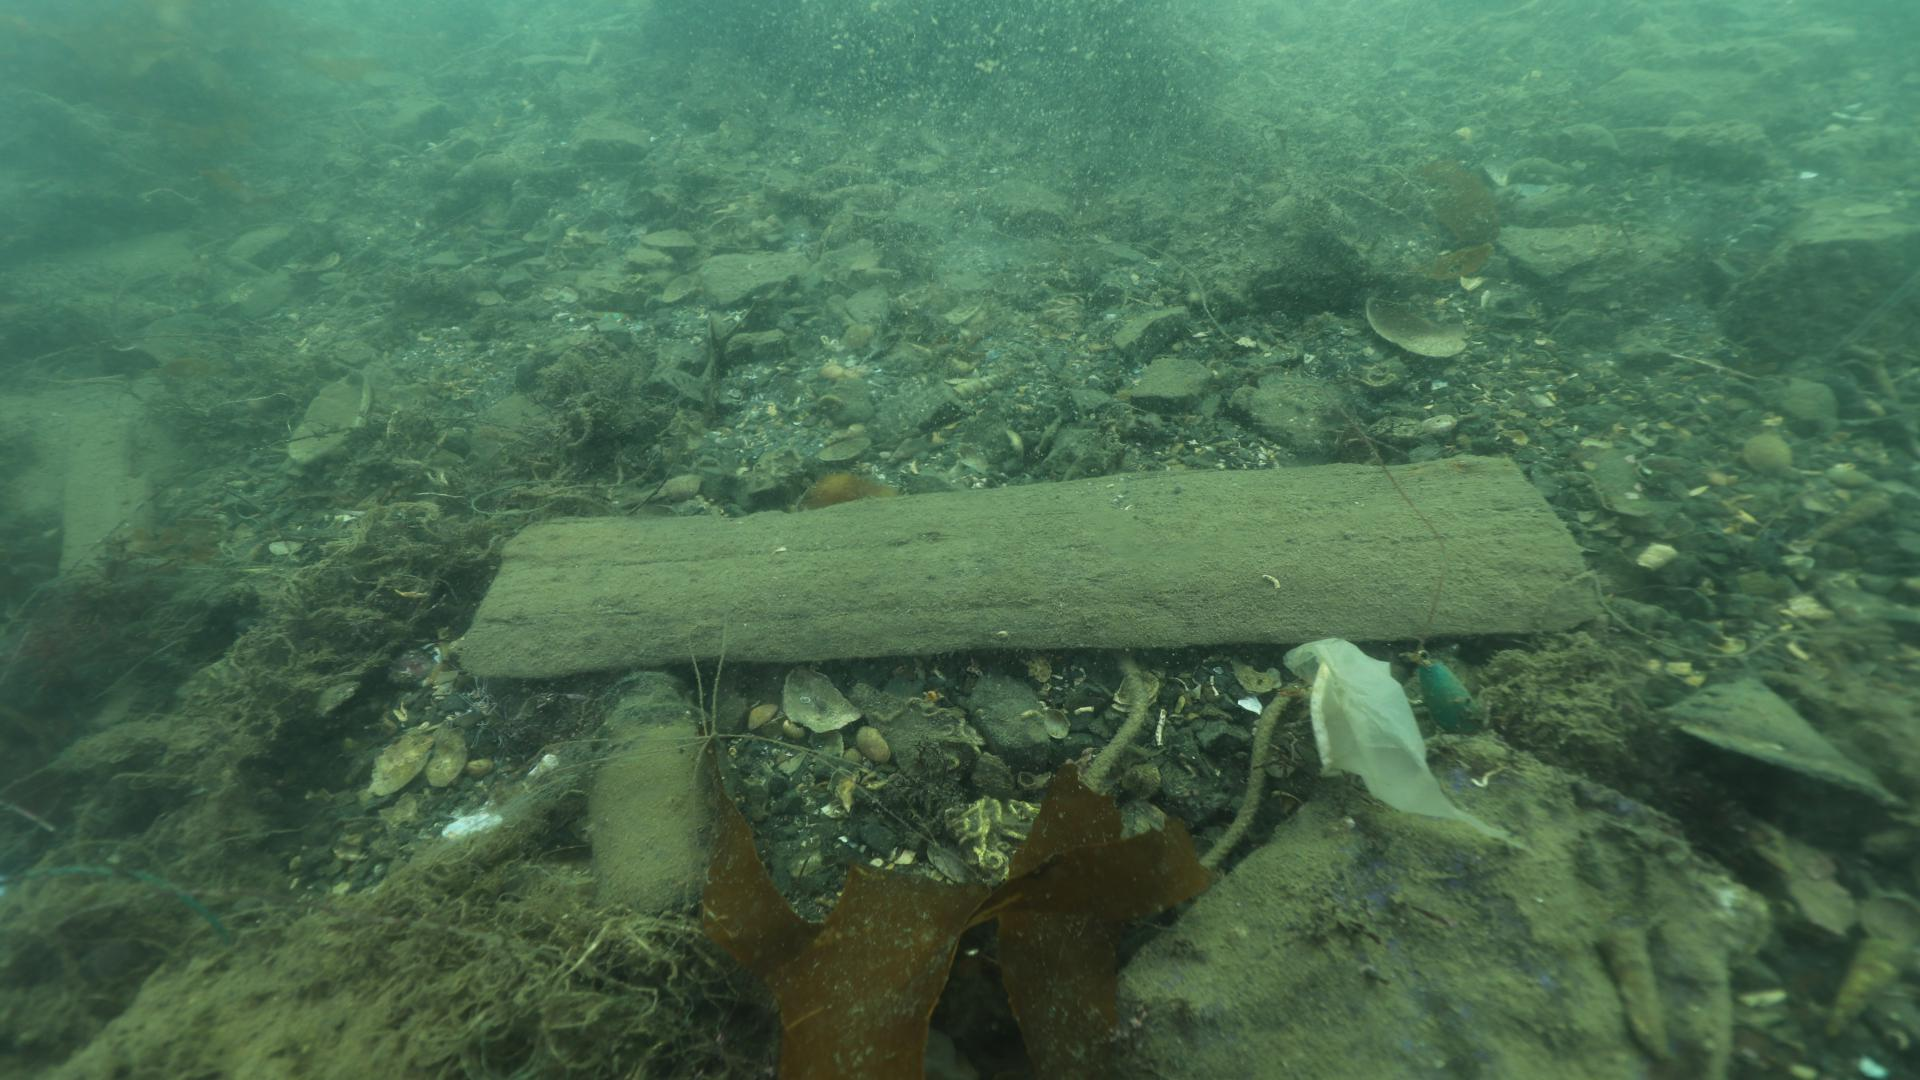wood: (455, 443, 1604, 687)
